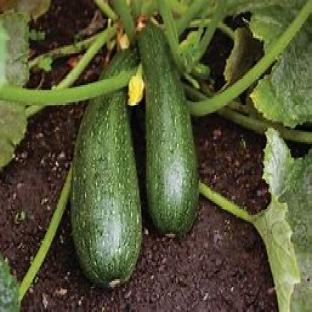Zucchini: (71, 91, 142, 286), (139, 23, 199, 233)
